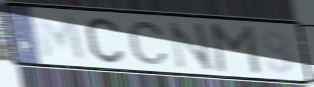9: (260, 27, 295, 77)
C: (84, 15, 127, 65), (126, 20, 171, 67)
M: (208, 21, 263, 77), (33, 11, 88, 64)
N: (166, 19, 216, 73)
